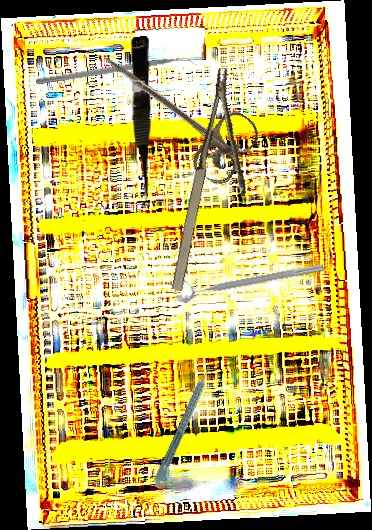Chopper: (35, 53, 198, 94)
Fixation Ring: (172, 251, 325, 305)
Handpiece: (151, 364, 219, 491)
Iris Scissors: (82, 31, 265, 190)
Micro Scissor: (127, 36, 155, 203)
Needle Holder: (164, 67, 274, 301)
